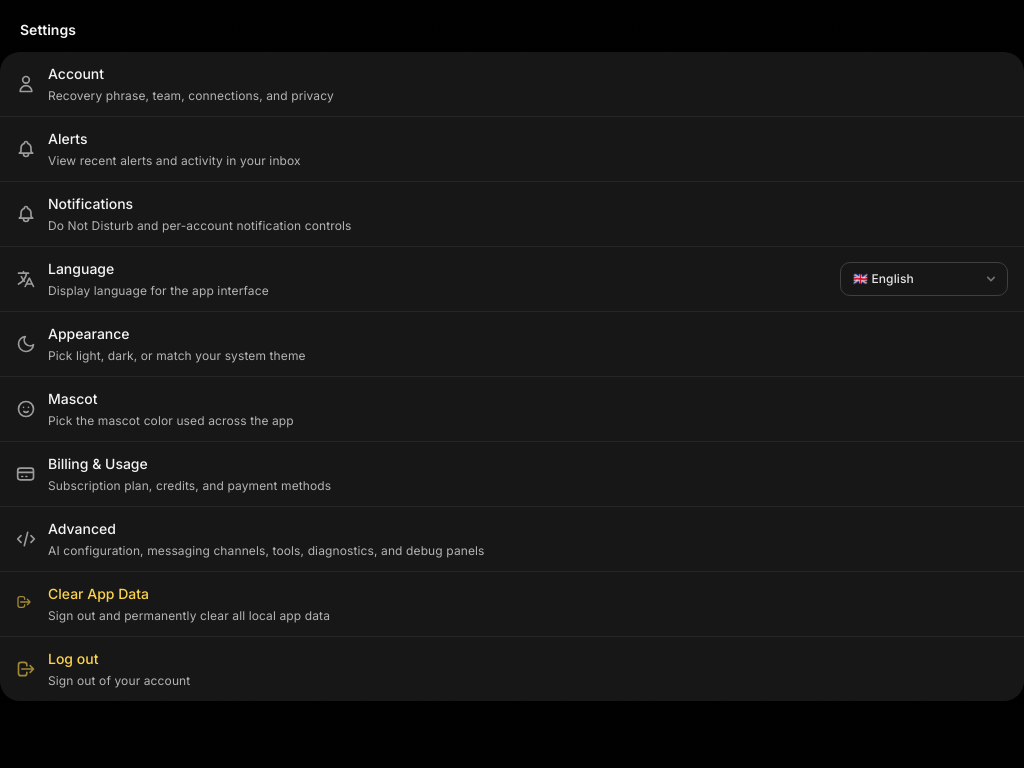
Test: SettingsHome › Clear App Data flow › falls back to the translated message when the error has no message
Click the button "Clear App Data" at (99, 594), box x1=0 y1=572 x2=1023 y2=637
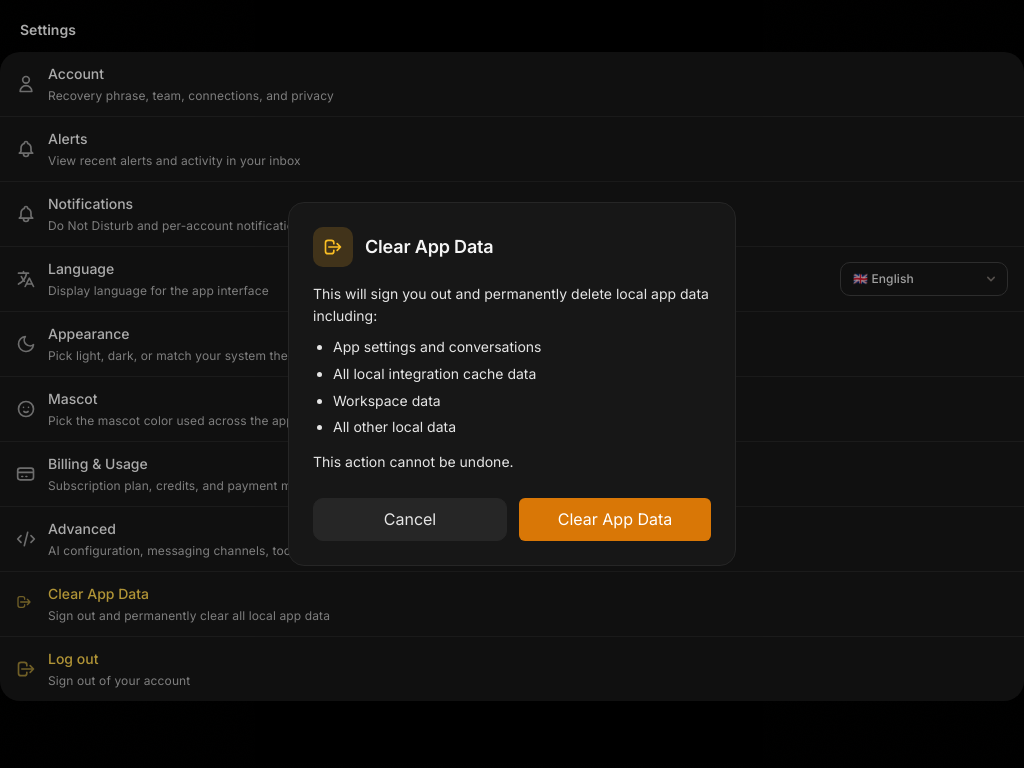
Click the button "Clear App Data" at (615, 520), box x1=519 y1=498 x2=711 y2=541
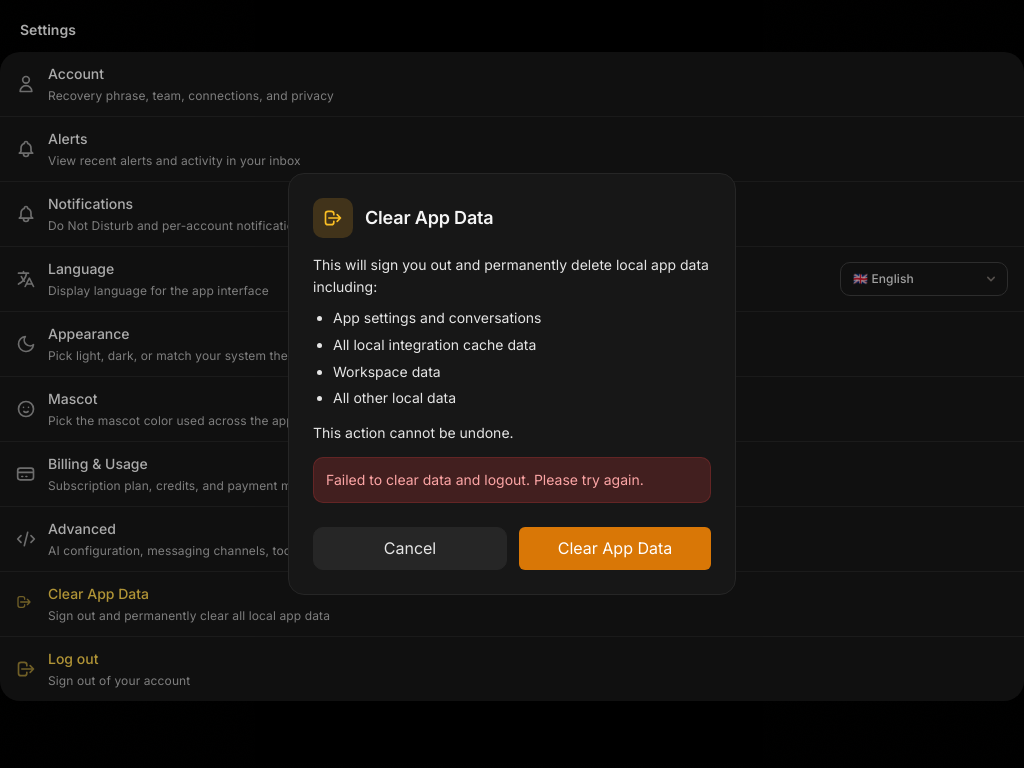
Check: the text "Failed to clear data and logout. Please try again." is shown, box x1=326 y1=470 x2=698 y2=490
